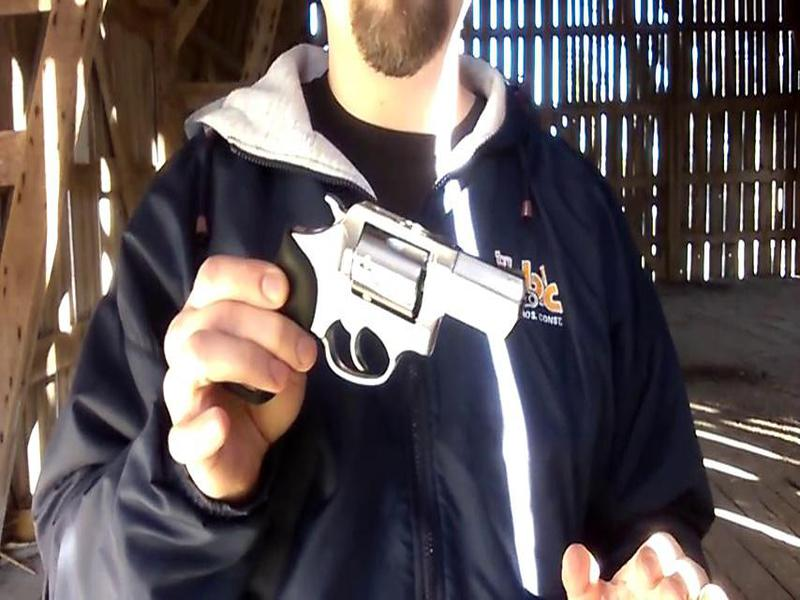Revolver: (191, 173, 548, 434)
